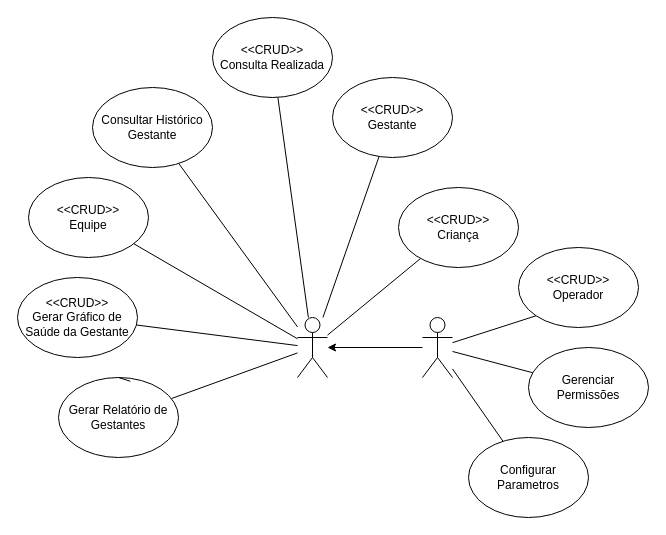
The diagram is 666 pixels wide and 535 high, and some of its shapes have lost their labels. The box of each missing label's shape, as (x1, y1, x2, y2) in pixels:
Admin: (422, 316, 452, 378)
Profissional de Saúde: (296, 316, 328, 378)
